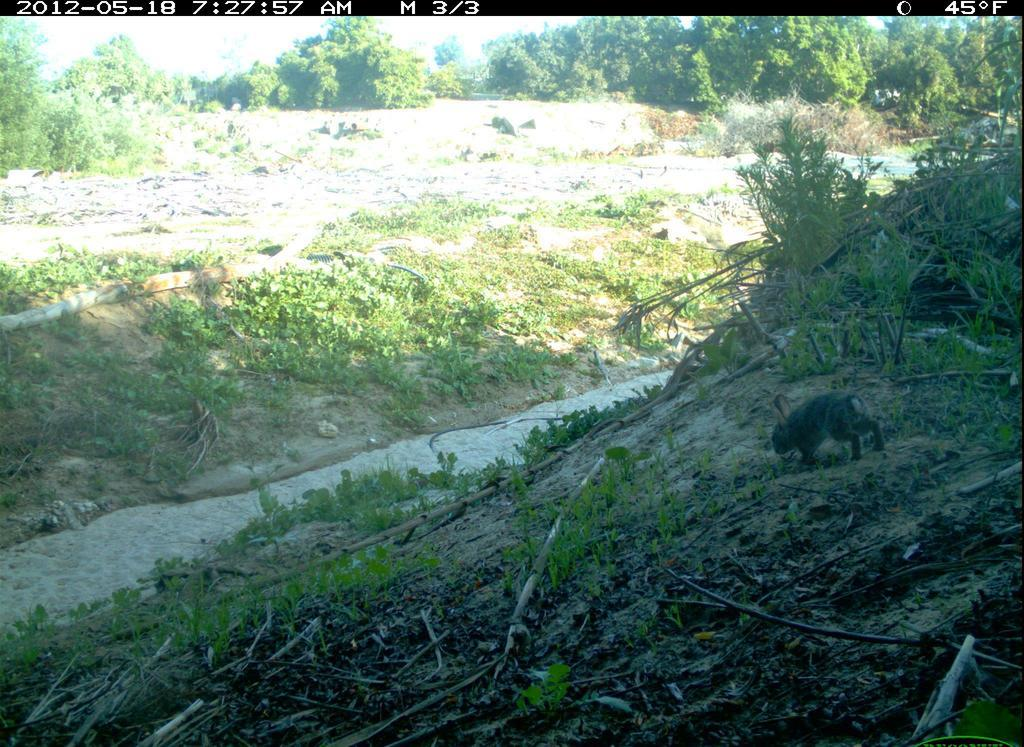rabbit: (747, 379, 897, 483)
